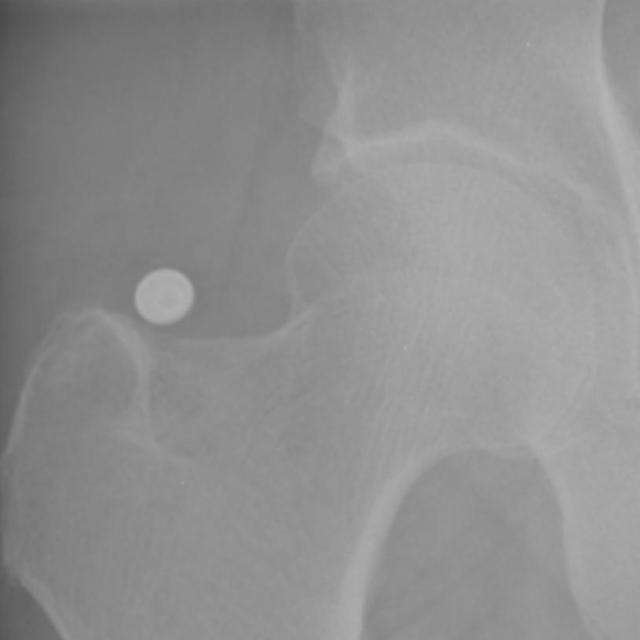Fitted_femural_head: (322, 164, 432, 322)
